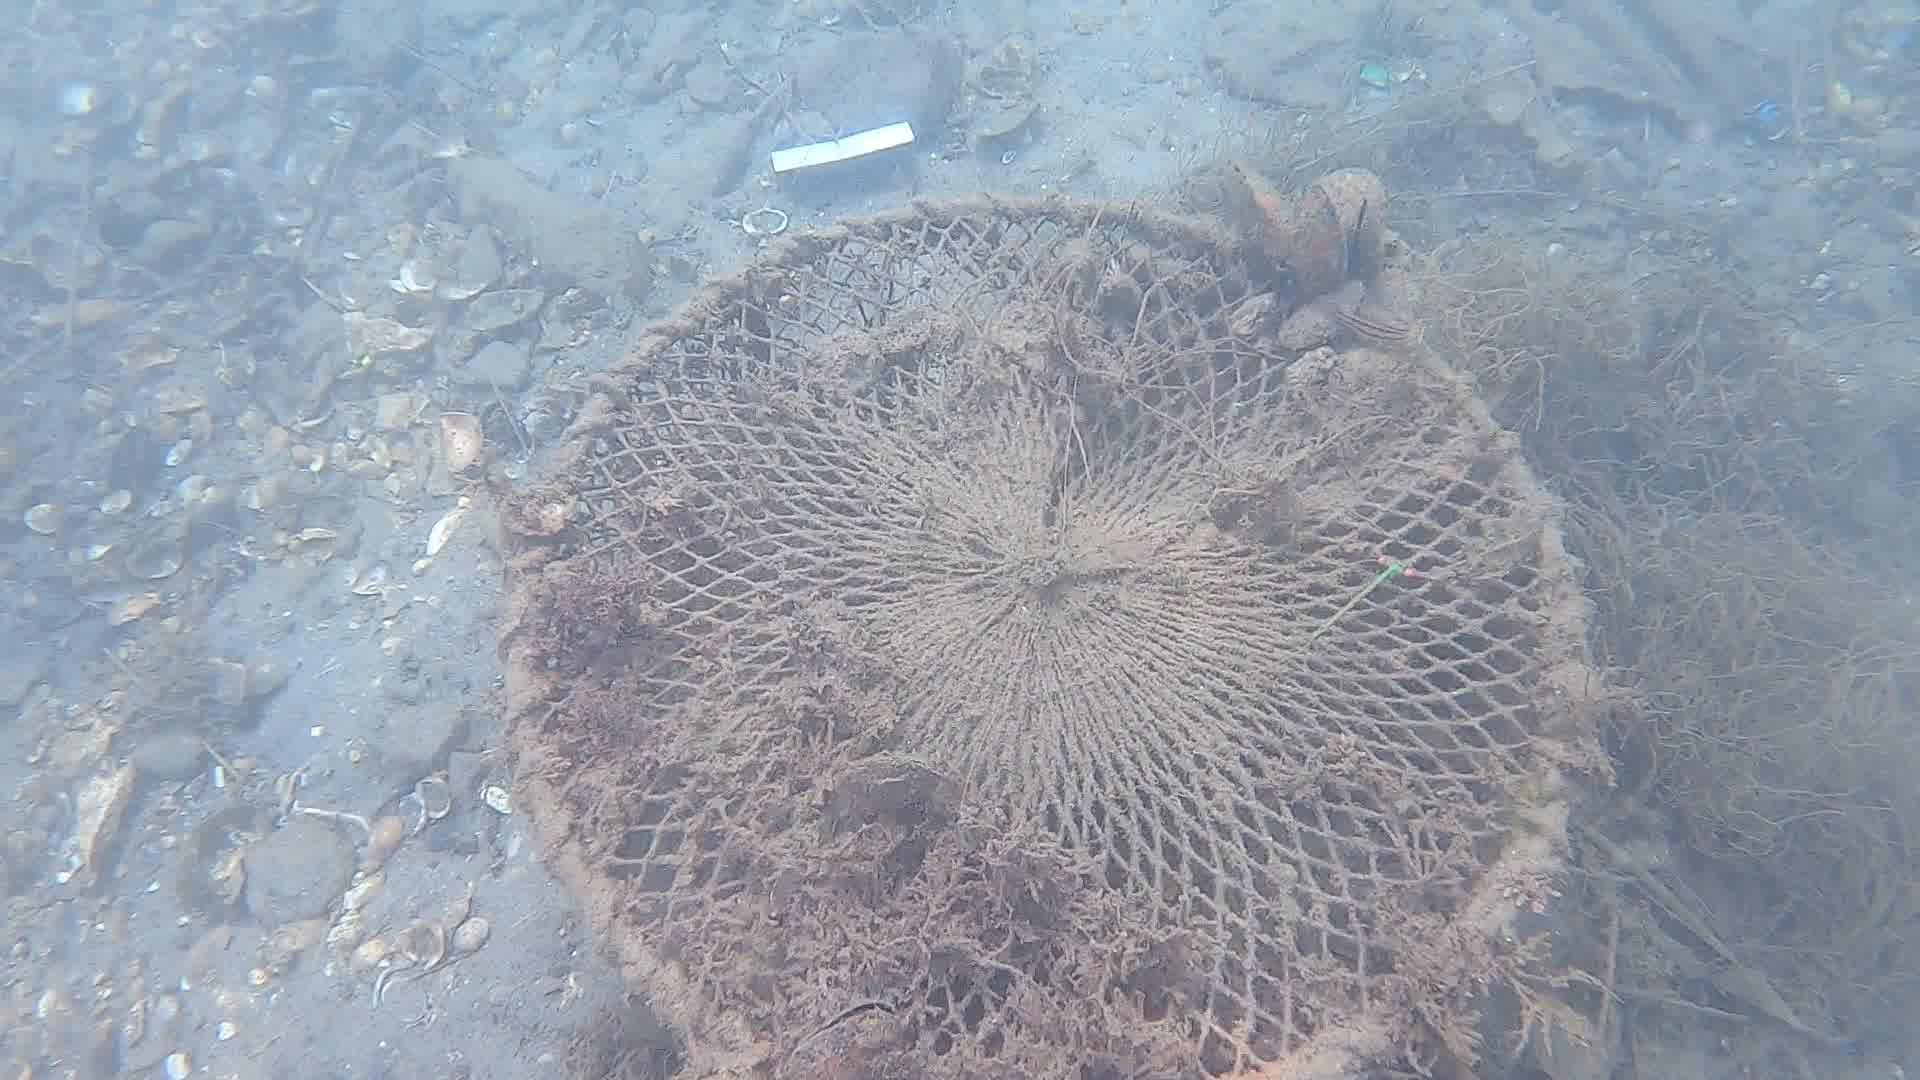circular fish trap: (498, 190, 1604, 1080)
